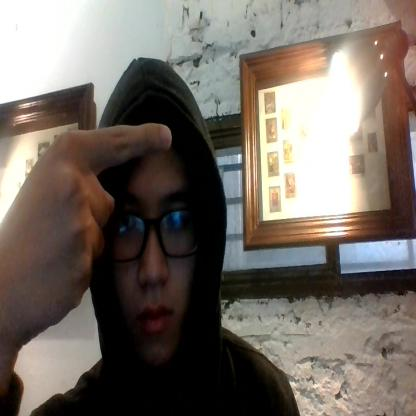left: (1, 117, 176, 324)
